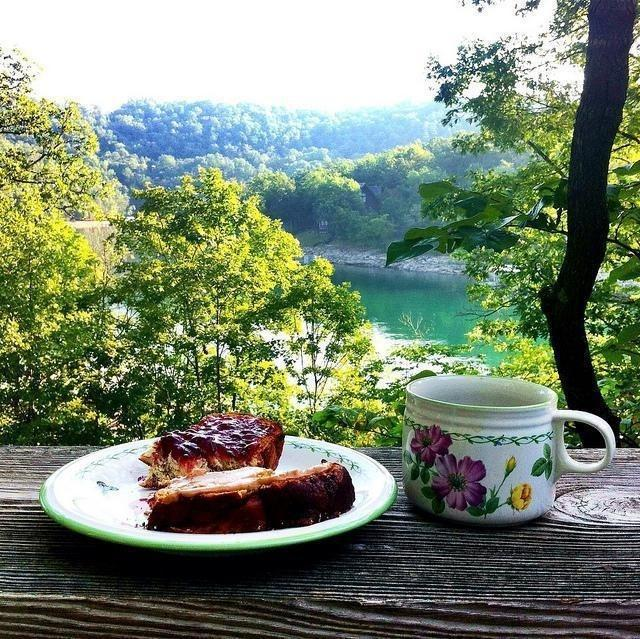cup-handle: (397, 373, 621, 529)
